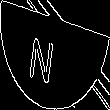N_N: (40, 26, 70, 84)
